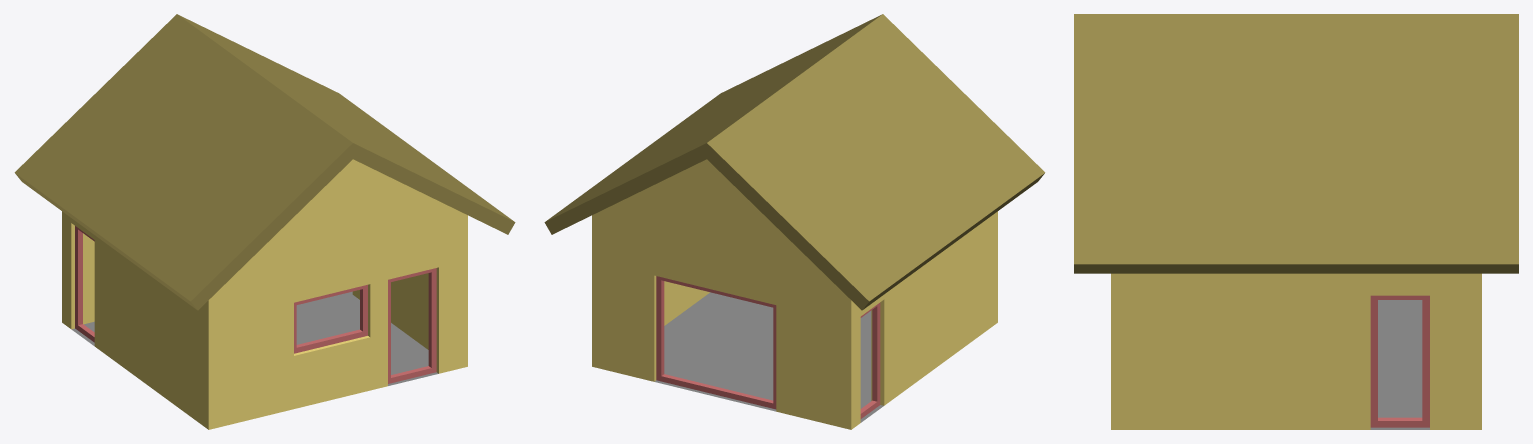
File: result.glb
3 renders of one model, left to right at view 1: azimuth 30°, elevation 25°; view 2: azimuth 150°, elevation 25°; view 3: azimuth 270°, elevation 25°, orthographic. The views are drawn at different scales.
Parts seen in each view (by area): view 1: 307d32a9-fee8-4416-b23c-da0f05161fae__undefined (×2), 526c3f88-ede8-4fe1-84c8-15946bbfe7fc__undefined, 20bf3533-0362-4cd7-ad1e-3a3971129a48__Plane_6, 3812fd1d-306f-4afd-8689-39ee4ffb76d3__Box, 8edbb21e-4708-4c2c-9f74-4265e5f37c79__Box_3, 509a5ac5-28ec-4f57-ac7b-e02e8d6b6ee2__Box_12; view 2: 307d32a9-fee8-4416-b23c-da0f05161fae__undefined (×2), 526c3f88-ede8-4fe1-84c8-15946bbfe7fc__undefined, 20bf3533-0362-4cd7-ad1e-3a3971129a48__Plane_6, cebfbdcd-d7dc-4ac8-b666-67e6be611686__Box_9, 509a5ac5-28ec-4f57-ac7b-e02e8d6b6ee2__Box_12; view 3: 307d32a9-fee8-4416-b23c-da0f05161fae__undefined, 526c3f88-ede8-4fe1-84c8-15946bbfe7fc__undefined, 20bf3533-0362-4cd7-ad1e-3a3971129a48__Plane_6, a4ddc195-b614-41b9-8bb6-3342ed469e02__Box_15.
Boxes of the visible parts, box(x1,y1,x2,y2) form: 307d32a9-fee8-4416-b23c-da0f05161fae__undefined (×2): box(14, 14, 515, 310); 526c3f88-ede8-4fe1-84c8-15946bbfe7fc__undefined: box(62, 159, 467, 429); 20bf3533-0362-4cd7-ad1e-3a3971129a48__Plane_6: box(71, 291, 438, 385); 3812fd1d-306f-4afd-8689-39ee4ffb76d3__Box: box(388, 268, 436, 383); 8edbb21e-4708-4c2c-9f74-4265e5f37c79__Box_3: box(294, 284, 367, 353); 509a5ac5-28ec-4f57-ac7b-e02e8d6b6ee2__Box_12: box(75, 226, 94, 342); 307d32a9-fee8-4416-b23c-da0f05161fae__undefined (×2): box(544, 14, 1045, 310); 526c3f88-ede8-4fe1-84c8-15946bbfe7fc__undefined: box(592, 159, 997, 429); 20bf3533-0362-4cd7-ad1e-3a3971129a48__Plane_6: box(654, 292, 883, 422); cebfbdcd-d7dc-4ac8-b666-67e6be611686__Box_9: box(656, 276, 776, 409); 509a5ac5-28ec-4f57-ac7b-e02e8d6b6ee2__Box_12: box(860, 302, 880, 418); 307d32a9-fee8-4416-b23c-da0f05161fae__undefined: box(1074, 14, 1518, 273); 526c3f88-ede8-4fe1-84c8-15946bbfe7fc__undefined: box(1111, 273, 1481, 429); 20bf3533-0362-4cd7-ad1e-3a3971129a48__Plane_6: box(1370, 300, 1429, 429); a4ddc195-b614-41b9-8bb6-3342ed469e02__Box_15: box(1370, 295, 1429, 427).
Size of the model in its own units: 639 by 500 by 600.
